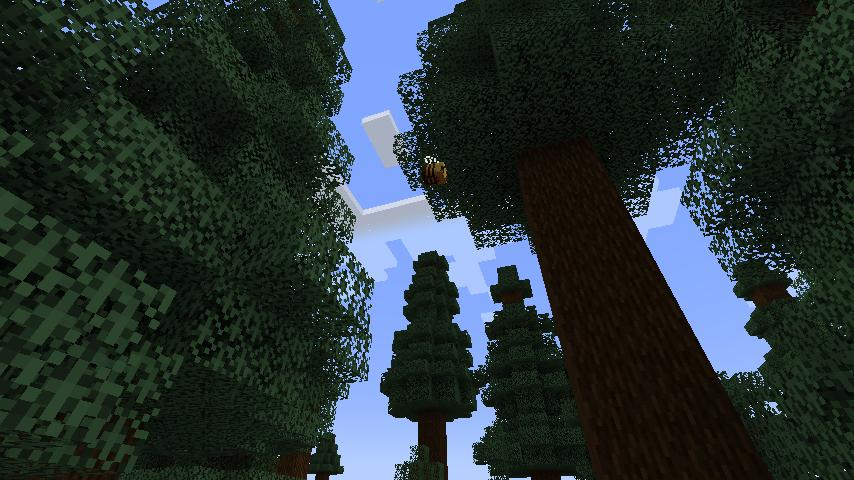bee: (420, 154, 448, 188)
